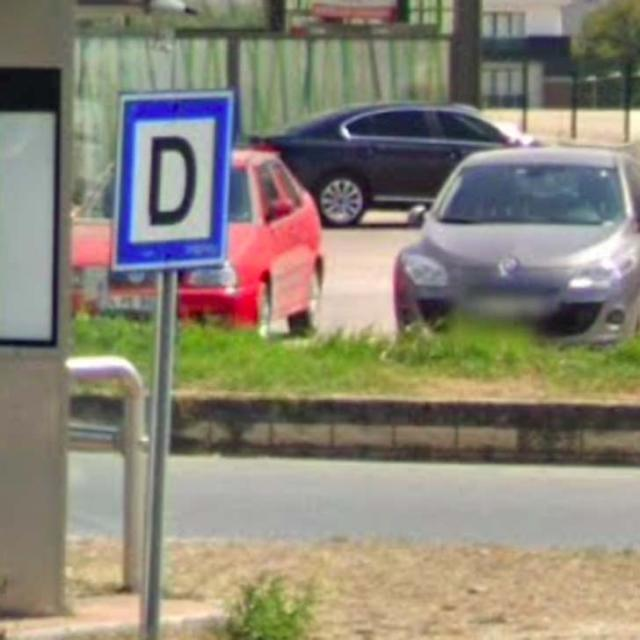durak: (110, 87, 227, 270)
